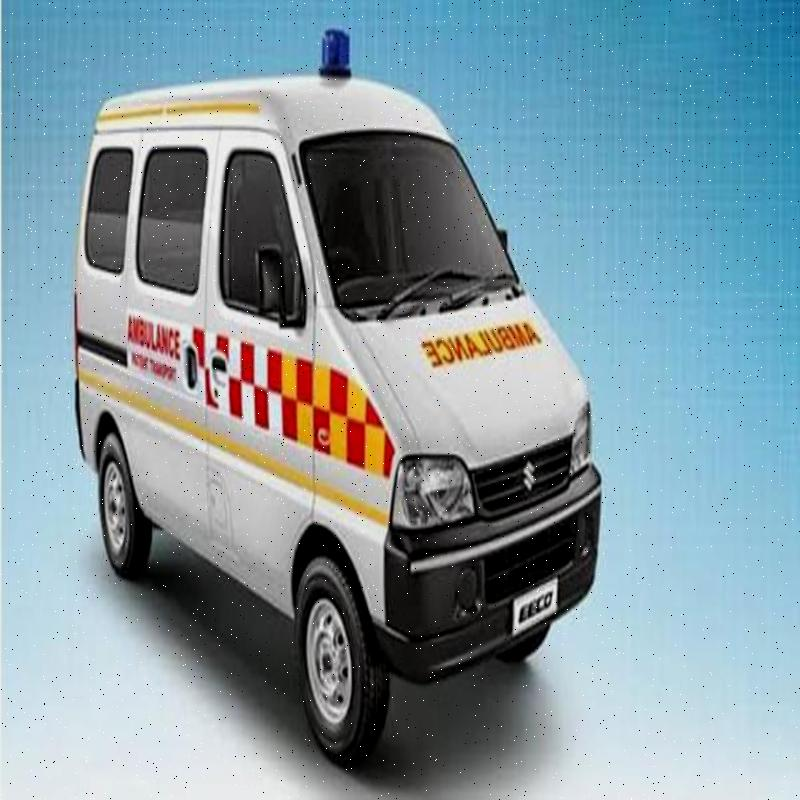ambulance: (73, 27, 577, 779)
